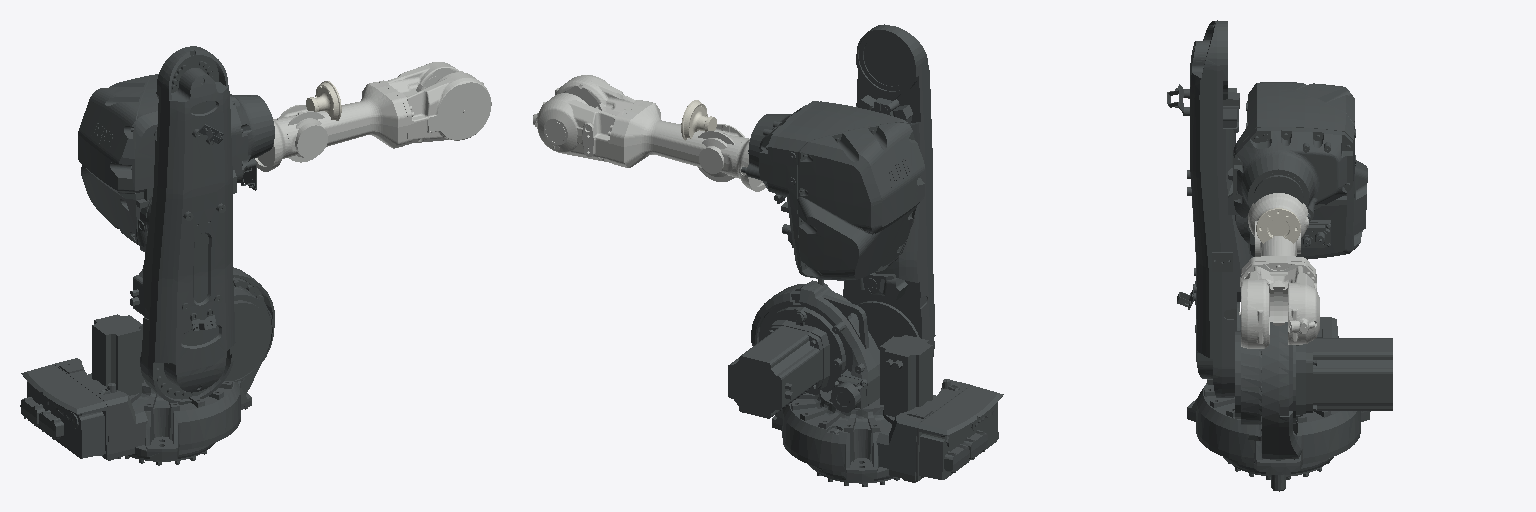
robot.urdf — abb_crb15000_5_95:
<?xml version="1.0" encoding="utf-8"?>
<!-- =================================================================================== -->
<!-- |    This document was autogenerated by xacro from crb15000_5_95.xacro            | -->
<!-- |    EDITING THIS FILE BY HAND IS NOT RECOMMENDED                                 | -->
<!-- =================================================================================== -->
<robot name="abb_crb15000_5_95">
  <!-- Conversion were obtained from http://www.e-paint.co.uk/Lab_values.asp
       unless otherwise stated. -->
  <!-- link list -->
  <link name="base_link">
    <collision>
      <geometry>
        <mesh filename="package://robot_description/meshes/base_link.stl"/>
      </geometry>
    </collision>
    <visual>
      <geometry>
        <mesh filename="package://robot_description/meshes/base_link.stl"/>
      </geometry>
      <material name="">
        <color rgba="0.3450980 0.3647059 0.3686275 1"/>
      </material>
    </visual>
  </link>
  <link name="link_1">
    <collision>
      <geometry>
        <mesh filename="package://robot_description/meshes/link_1.stl"/>
      </geometry>
    </collision>
    <visual>
      <geometry>
        <mesh filename="package://robot_description/meshes/link_1.stl"/>
      </geometry>
      <material name="">
        <color rgba="0.3450980 0.3647059 0.3686275 1"/>
      </material>
    </visual>
  </link>
  <link name="link_2">
    <collision>
      <geometry>
        <mesh filename="package://robot_description/meshes/link_2.stl"/>
      </geometry>
    </collision>
    <visual>
      <geometry>
        <mesh filename="package://robot_description/meshes/link_2.stl"/>
      </geometry>
      <material name="">
        <color rgba="0.3450980 0.3647059 0.3686275 1"/>
      </material>
    </visual>
  </link>
  <link name="link_3">
    <collision>
      <geometry>
        <mesh filename="package://robot_description/meshes/link_3.stl"/>
      </geometry>
    </collision>
    <visual>
      <geometry>
        <mesh filename="package://robot_description/meshes/link_3.stl"/>
      </geometry>
      <material name="">
        <color rgba="0.3450980 0.3647059 0.3686275 1"/>
      </material>
    </visual>
  </link>
  <link name="link_4">
    <collision>
      <geometry>
        <mesh filename="package://robot_description/meshes/link_4.stl"/>
      </geometry>
    </collision>
    <visual>
      <geometry>
        <mesh filename="package://robot_description/meshes/link_4.stl"/>
      </geometry>
      <material name="">
        <color rgba="0.7725490 0.7803922 0.7686275 1"/>
      </material>
    </visual>
  </link>
  <link name="link_5">
    <collision>
      <geometry>
        <mesh filename="package://robot_description/meshes/link_5.stl"/>
      </geometry>
    </collision>
    <visual>
      <geometry>
        <mesh filename="package://robot_description/meshes/link_5.stl"/>
      </geometry>
      <material name="">
        <color rgba="0.7725490 0.7803922 0.7686275 1"/>
      </material>
    </visual>
  </link>
  <link name="link_6">
    <collision>
      <geometry>
        <mesh filename="package://robot_description/meshes/link_6.stl"/>
      </geometry>
    </collision>
    <visual>
      <geometry>
        <mesh filename="package://robot_description/meshes/link_6.stl"/>
      </geometry>
      <material name="">
        <color rgba="0.8392157 0.8352941 0.7921569 1"/>
      </material>
    </visual>
  </link>
  <!-- end of link list -->
  <!-- joint list -->
  <joint name="joint_1" type="revolute">
    <origin rpy="0 0 0" xyz="0 0 0.265"/>
    <axis xyz="0 0 1"/>
    <parent link="base_link"/>
    <child link="link_1"/>
    <limit effort="0" lower="-3.14159265359" upper="3.14159265359" velocity="2.18166156499"/>
  </joint>
  <joint name="joint_2" type="revolute">
    <origin rpy="0 0 0" xyz="0 0 0"/>
    <axis xyz="0 1 0"/>
    <parent link="link_1"/>
    <child link="link_2"/>
    <limit effort="0" lower="-3.14159265359" upper="3.14159265359" velocity="2.18166156499"/>
  </joint>
  <joint name="joint_3" type="revolute">
    <origin rpy="0 0 0" xyz="0 0 0.444"/>
    <axis xyz="0 1 0"/>
    <parent link="link_2"/>
    <child link="link_3"/>
    <limit effort="0" lower="-3.92699081699" upper="1.4835298642" velocity="2.44346095279"/>
  </joint>
  <joint name="joint_4" type="revolute">
    <origin rpy="0 0 0" xyz="0 0 0.110"/>
    <axis xyz="1 0 0"/>
    <parent link="link_3"/>
    <child link="link_4"/>
    <limit effort="0" lower="-3.14159265359" upper="3.14159265359" velocity="3.49065850399"/>
  </joint>
  <joint name="joint_5" type="revolute">
    <origin rpy="0 0 0" xyz="0.470 0 0"/>
    <axis xyz="0 1 0"/>
    <parent link="link_4"/>
    <child link="link_5"/>
    <limit effort="0" lower="-3.14159265359" upper="3.14159265359" velocity="3.49065850399"/>
  </joint>
  <joint name="joint_6" type="revolute">
    <origin rpy="0 0 0" xyz="0.101 0 0.080"/>
    <axis xyz="1 0 0"/>
    <parent link="link_5"/>
    <child link="link_6"/>
    <limit effort="0" lower="-3.14159265359" upper="3.14159265359" velocity="3.49065850399"/>
  </joint>
  <!-- end of joint list -->
  <!-- ROS-Industrial 'base' frame: base_link to ABB World Coordinates transform -->
  <link name="base"/>
  <joint name="base_link-base" type="fixed">
    <origin rpy="0 0 0" xyz="0 0 0"/>
    <parent link="base_link"/>
    <child link="base"/>
  </joint>
  <!-- ROS-Industrial 'flange' frame: attachment point for EEF models -->
  <link name="flange"/>
  <joint name="joint_6-flange" type="fixed">
    <origin rpy="0 0 0" xyz="0 0 0"/>
    <parent link="link_6"/>
    <child link="flange"/>
  </joint>
  <!-- ROS-Industrial 'tool0' frame: all-zeros tool frame -->
  <link name="tool0"/>
  <joint name="flange-tool0" type="fixed">
    <origin rpy="0 1.57079632679 0" xyz="0 0 0"/>
    <parent link="flange"/>
    <child link="tool0"/>
  </joint>
</robot>

--- Facts derived from the render (not from the file) ---
3 views of the same robot in one strip: view 1: azimuth 30°, elevation 25°; view 2: azimuth 150°, elevation 25°; view 3: azimuth 270°, elevation 25° (orthographic).
Model abb_crb15000_5_95 with 10 links and 9 joints (6 revolute, 3 fixed), rooted at base_link, posed all joints at 0.
Links seen in each view (by area): view 1: link_2, base_link, link_3, link_4, link_1, link_5, link_6; view 2: link_3, link_1, base_link, link_2, link_4, link_5, link_6; view 3: link_3, link_2, link_1, link_4, base_link, link_6.
Link boxes in pixels (x1,y1,x2,y2): link_2: [140, 46, 235, 404]; base_link: [20, 358, 251, 460]; link_3: [78, 74, 274, 251]; link_4: [255, 62, 491, 171]; link_1: [92, 265, 274, 465]; link_5: [279, 105, 327, 162]; link_6: [306, 81, 341, 120]; link_3: [741, 101, 924, 280]; link_1: [728, 279, 932, 486]; base_link: [772, 379, 1003, 482]; link_2: [843, 24, 935, 356]; link_4: [533, 75, 765, 191]; link_5: [698, 124, 744, 181]; link_6: [681, 100, 716, 140]; link_3: [1228, 82, 1367, 259]; link_2: [1167, 20, 1252, 397]; link_1: [1223, 322, 1392, 491]; link_4: [1239, 193, 1319, 348]; base_link: [1187, 316, 1370, 474]; link_6: [1256, 208, 1300, 243].
Size in the robot's own frame: 1.46 by 0.6312 by 1.34 metres.
Meshes: 7 distinct files referenced, 7 mesh visuals loaded (7 ASCII STL).